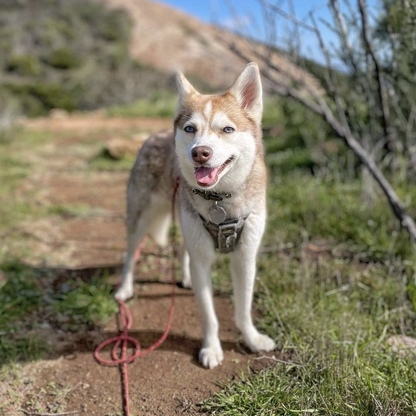husky: (109, 58, 280, 373)
